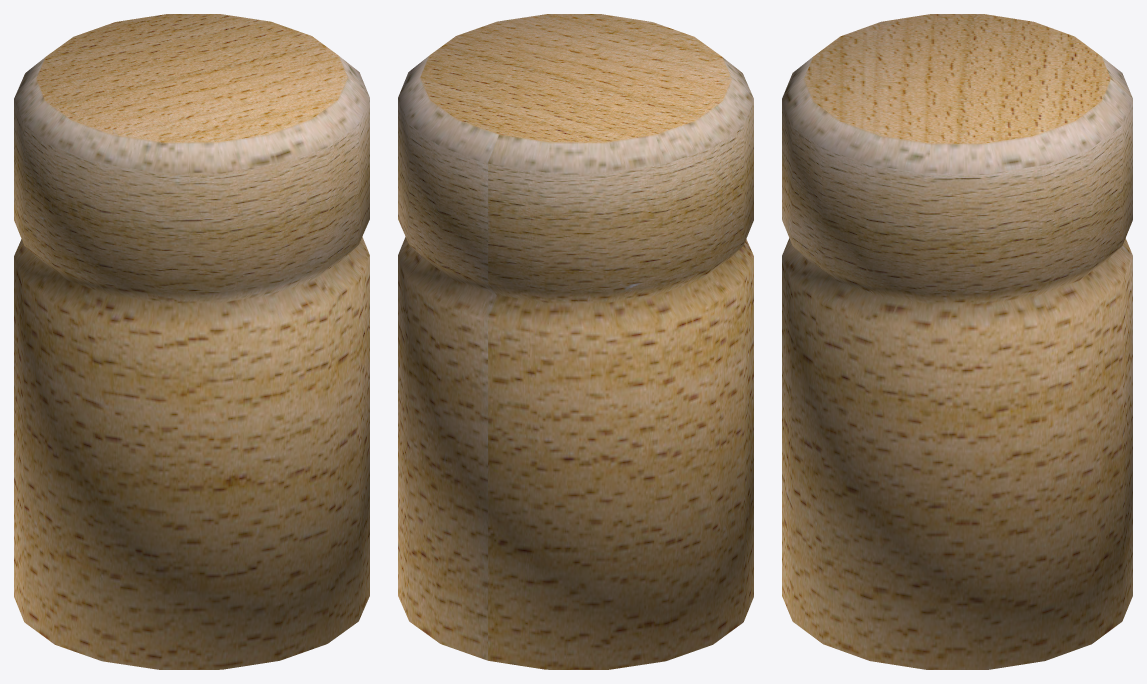
Rendered from Koma_C_S_C1.fbx.
3 views of the same model, side by side, from view 1: azimuth 30°, elevation 25°; view 2: azimuth 150°, elevation 25°; view 3: azimuth 270°, elevation 25° (orthographic).
Visible parts, largest first — view 1: Koma_C_S_C1; view 2: Koma_C_S_C1; view 3: Koma_C_S_C1.
Part boxes in pixels (left/top/right/bottom): Koma_C_S_C1: left=14, top=14, right=369, bottom=669; Koma_C_S_C1: left=398, top=14, right=753, bottom=669; Koma_C_S_C1: left=782, top=14, right=1132, bottom=669.
Size of the model in its own units: 1.6 by 2.6 by 1.6.
Materials: 1 (1 with a texture image).
